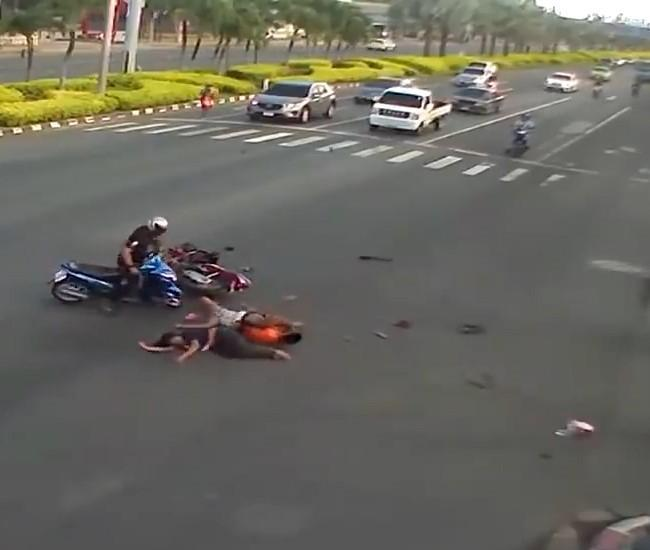accident: (132, 326, 292, 370), (175, 298, 307, 336)
